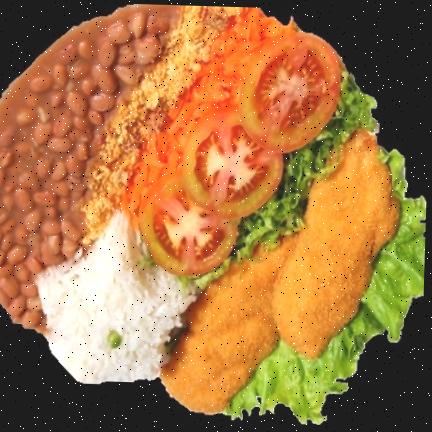beans: (0, 4, 181, 327)
carrot: (122, 7, 293, 228)
chicken: (161, 130, 399, 413)
rice: (39, 211, 197, 384)
salad: (223, 150, 426, 424), (293, 75, 375, 195), (237, 195, 293, 259)
tomato: (139, 35, 340, 276)
